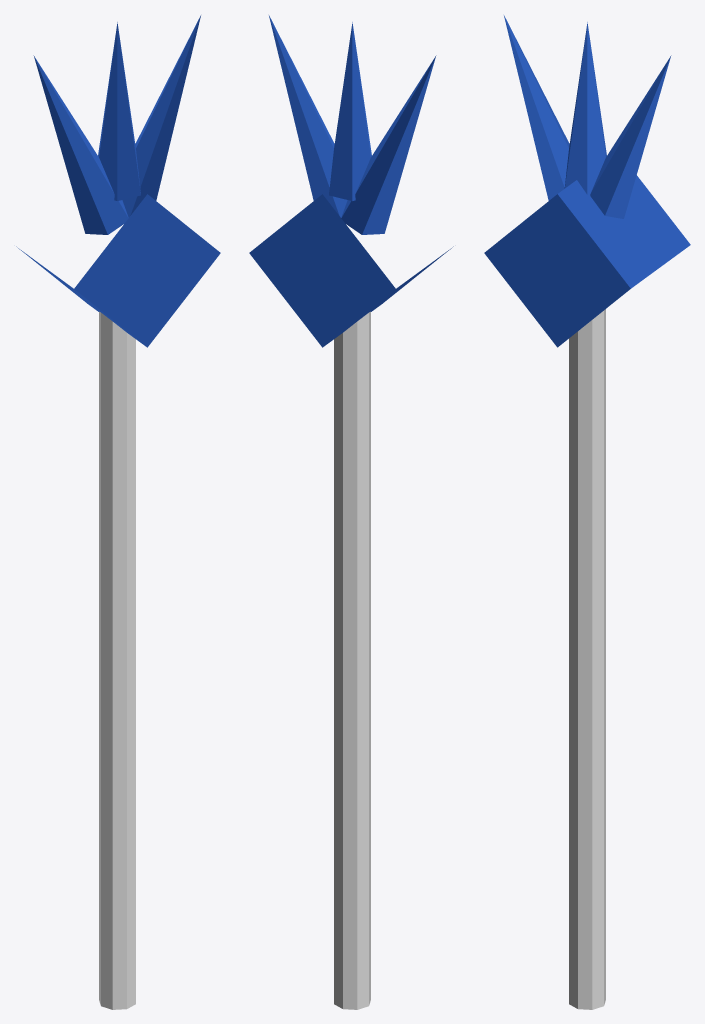
Rendered from storm-spirit.glb.
3 views of the same model, side by side, from view 1: azimuth 30°, elevation 25°; view 2: azimuth 150°, elevation 25°; view 3: azimuth 330°, elevation 25° (orthographic).
Visible parts, largest first — view 1: storm-spirit-shaft, storm-spirit-head-gem, storm-spirit-prong-r, storm-spirit-prong-c, storm-spirit-prong-l; view 2: storm-spirit-shaft, storm-spirit-head-gem, storm-spirit-prong-r, storm-spirit-prong-c, storm-spirit-prong-l; view 3: storm-spirit-shaft, storm-spirit-head-gem, storm-spirit-prong-l, storm-spirit-prong-c, storm-spirit-prong-r.
Boxes of the visible parts, <box> form: storm-spirit-shaft: <box>99,311,135,1009</box>; storm-spirit-head-gem: <box>16,194,220,347</box>; storm-spirit-prong-r: <box>33,55,128,234</box>; storm-spirit-prong-c: <box>98,22,140,200</box>; storm-spirit-prong-l: <box>122,15,200,217</box>; storm-spirit-shaft: <box>334,311,370,1009</box>; storm-spirit-head-gem: <box>249,194,453,347</box>; storm-spirit-prong-r: <box>341,55,436,234</box>; storm-spirit-prong-c: <box>329,22,371,200</box>; storm-spirit-prong-l: <box>269,15,347,217</box>; storm-spirit-shaft: <box>569,309,605,1009</box>; storm-spirit-head-gem: <box>484,175,690,347</box>; storm-spirit-prong-l: <box>590,55,671,218</box>; storm-spirit-prong-c: <box>564,22,606,195</box>; storm-spirit-prong-r: <box>504,15,569,200</box>.
Size of the model in its own units: 0.3558 by 1.98 by 0.22.
